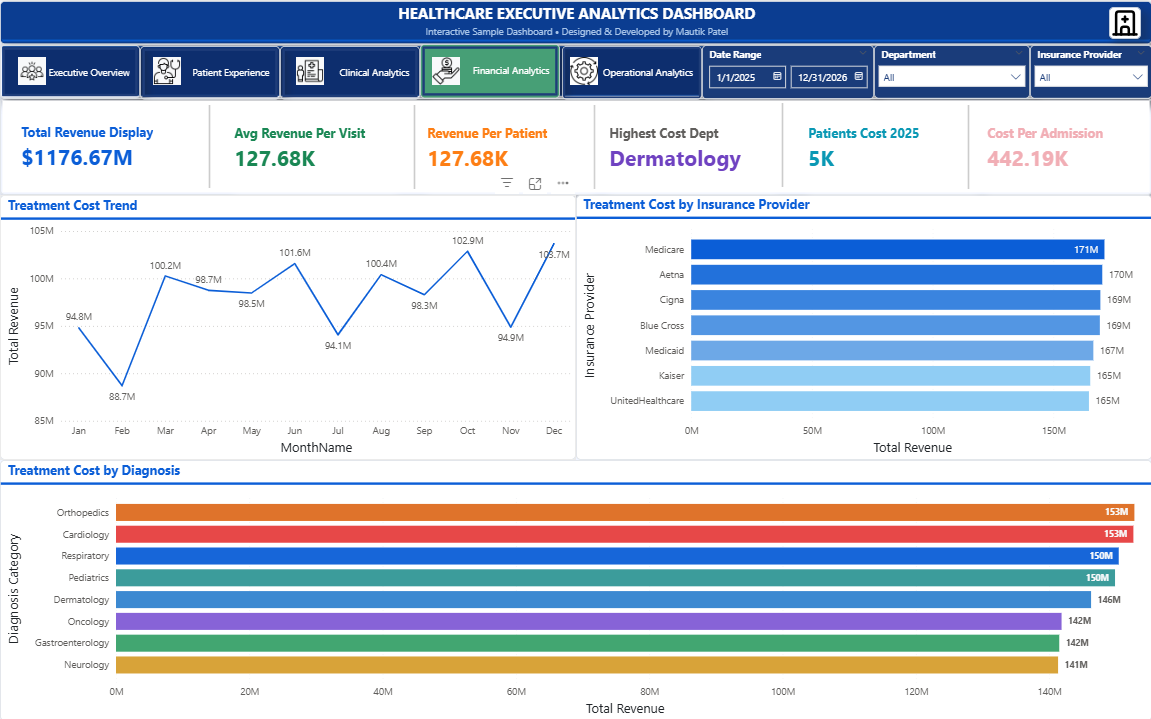

Layout of this report page (visuals, bound fields, positions):
{"tool":"powerbi","page":{"name":"Financial Analytics","canvas":[1440,900],"ordinal":3},"visuals":[{"type":"shape","title":"HEALTHCARE EXECUTIVE ANALYTICS DASHBOARD","box":[0,0,1440,54.3],"z":0},{"type":"image","box":[1385.7,7.1,40,40],"z":1000},{"type":"shape","box":[0,53.8,1440,67.5],"z":2000},{"type":"actionButton","box":[0,55,175,67],"z":3000},{"type":"actionButton","box":[175,56.2,175,67],"z":4000},{"type":"actionButton","box":[350,56.2,175,67],"z":5000},{"type":"actionButton","box":[525,53.8,175,67.5],"z":6000},{"type":"actionButton","box":[702.5,56.2,175,67],"z":7000},{"type":"slicer","fields":{"Values":["DateTable.Date"]},"box":[877.5,55,215,67.5],"z":8000},{"type":"slicer","fields":{"Values":["HealthcareData.Department Referral"]},"box":[1092.5,55,195,67],"z":9000},{"type":"slicer","fields":{"Values":["HealthcareData.Insurance Provider"]},"box":[1287.5,55,152.5,67],"z":10000},{"type":"shape","box":[0,121.2,1440,121.2],"z":11000},{"type":"shape","box":[246.2,130,31.2,103.8],"z":12000},{"type":"shape","box":[511.2,130,13.8,105],"z":13000},{"type":"shape","box":[740,130,6.2,105],"z":14000},{"type":"cardVisual","fields":{"Data":["Measures (3).Total Revenue Display"]},"box":[22.5,142.5,213.8,78.8],"z":15000},{"type":"cardVisual","fields":{"Data":["Measures (3).Avg Revenue Per Visit"]},"box":[288.8,130,197.5,105],"z":16000},{"type":"cardVisual","fields":{"Data":["Measures (3).Revenue Per Patient"]},"box":[530,130,200,105],"z":17000},{"type":"cardVisual","fields":{"Data":["Measures (3).Highest Cost Dept"]},"box":[757.5,130,202.5,105],"z":18000},{"type":"image","box":[712.5,70,35,35],"z":19000},{"type":"image","box":[22.5,70,35,35],"z":20000},{"type":"image","box":[191.2,70,35,35],"z":21000},{"type":"image","box":[370,70,35,35],"z":22000},{"type":"image","box":[540,70,35,35],"z":23000},{"type":"lineChart","title":"Treatment Cost Trend","fields":{"Category":["DateTable.MonthName"],"Y":["Measures (3).Total Revenue"]},"box":[0,242.5,720,331.2],"z":24000},{"type":"barChart","title":"Treatment Cost by Insurance Provider","fields":{"Category":["HealthcareData.Insurance Provider"],"Y":["Measures (3).Total Revenue"]},"box":[720,242.5,720,331.2],"z":25000},{"type":"barChart","title":"Treatment Cost by Diagnosis","fields":{"Category":["HealthcareData.Diagnosis Category"],"Y":["Measures (3).Total Revenue"]},"box":[0,573.8,1440,326.2],"z":26000},{"type":"cardVisual","fields":{"Data":["Measures (3).Patients Cost 2025"]},"box":[1006.2,130,205,105],"z":27000},{"type":"cardVisual","fields":{"Data":["Measures (3).Cost Per Admission"]},"box":[1230,130,196.2,105],"z":28000},{"type":"shape","box":[971.2,127.5,13.8,105],"z":29000},{"type":"shape","box":[1203.8,130,13.8,105],"z":30000}]}

Visuals, with their boxes in screenshot pixels (x1, y1, x2, y2), scaled from the page's 1440x900 canvas onto the 1151x719 screenshot:
"HEALTHCARE EXECUTIVE ANALYTICS DASHBOARD" shape: <box>0,0,1150,43</box>
image: <box>1108,6,1140,38</box>
shape: <box>0,43,1150,97</box>
actionButton: <box>0,44,140,97</box>
actionButton: <box>140,45,280,98</box>
actionButton: <box>280,45,420,98</box>
actionButton: <box>420,43,560,97</box>
actionButton: <box>562,45,701,98</box>
slicer - DateTable.Date: <box>701,44,873,98</box>
slicer - HealthcareData.Department Referral: <box>873,44,1029,97</box>
slicer - HealthcareData.Insurance Provider: <box>1029,44,1150,97</box>
shape: <box>0,97,1150,194</box>
shape: <box>197,104,222,187</box>
shape: <box>409,104,420,188</box>
shape: <box>591,104,596,188</box>
cardVisual - Measures (3).Total Revenue Display: <box>18,114,189,177</box>
cardVisual - Measures (3).Avg Revenue Per Visit: <box>231,104,389,188</box>
cardVisual - Measures (3).Revenue Per Patient: <box>424,104,583,188</box>
cardVisual - Measures (3).Highest Cost Dept: <box>605,104,767,188</box>
image: <box>570,56,597,84</box>
image: <box>18,56,46,84</box>
image: <box>153,56,181,84</box>
image: <box>296,56,324,84</box>
image: <box>432,56,460,84</box>
"Treatment Cost Trend" lineChart: <box>0,194,576,458</box>
"Treatment Cost by Insurance Provider" barChart: <box>576,194,1150,458</box>
"Treatment Cost by Diagnosis" barChart: <box>0,458,1150,718</box>
cardVisual - Measures (3).Patients Cost 2025: <box>804,104,968,188</box>
cardVisual - Measures (3).Cost Per Admission: <box>983,104,1140,188</box>
shape: <box>776,102,787,186</box>
shape: <box>962,104,973,188</box>
